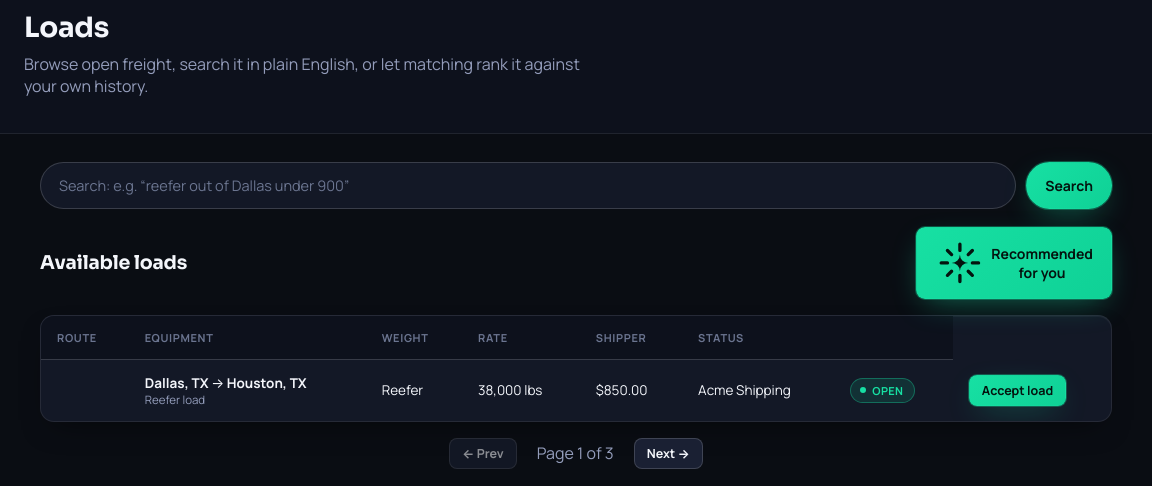
it: LoadsPage — pagination › hides pagination controls while recommended matches are active
Expected: the text "Page 1 of 3" is shown, [537,442,614,464]
Click the button "Recommended for you".
click(1014, 263)  # box [916,227,1112,299]
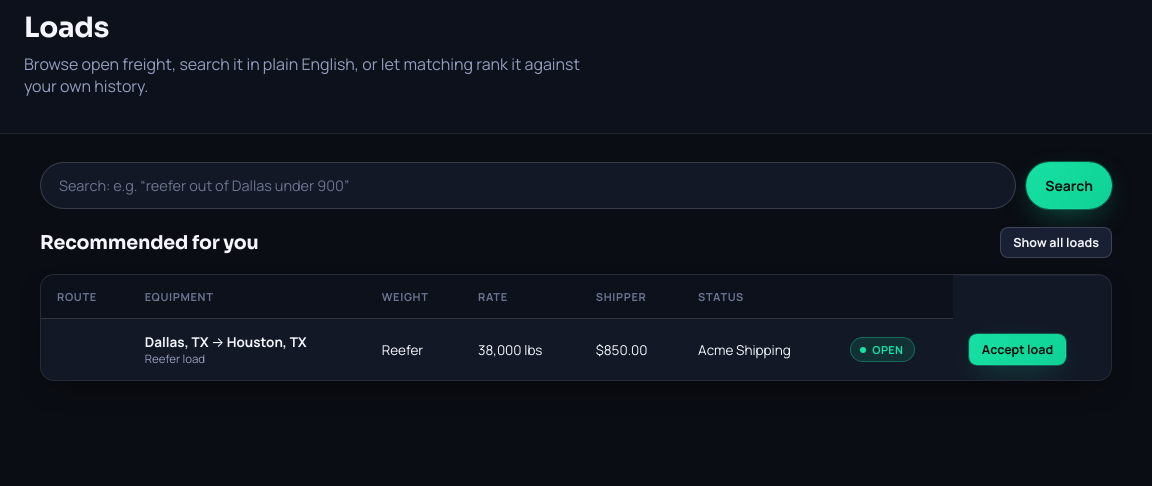
Now the heading "Recommended for you" is shown, box [40,230,259,254]
Now the button "Next" is gone
Now the button "Prev" is gone
